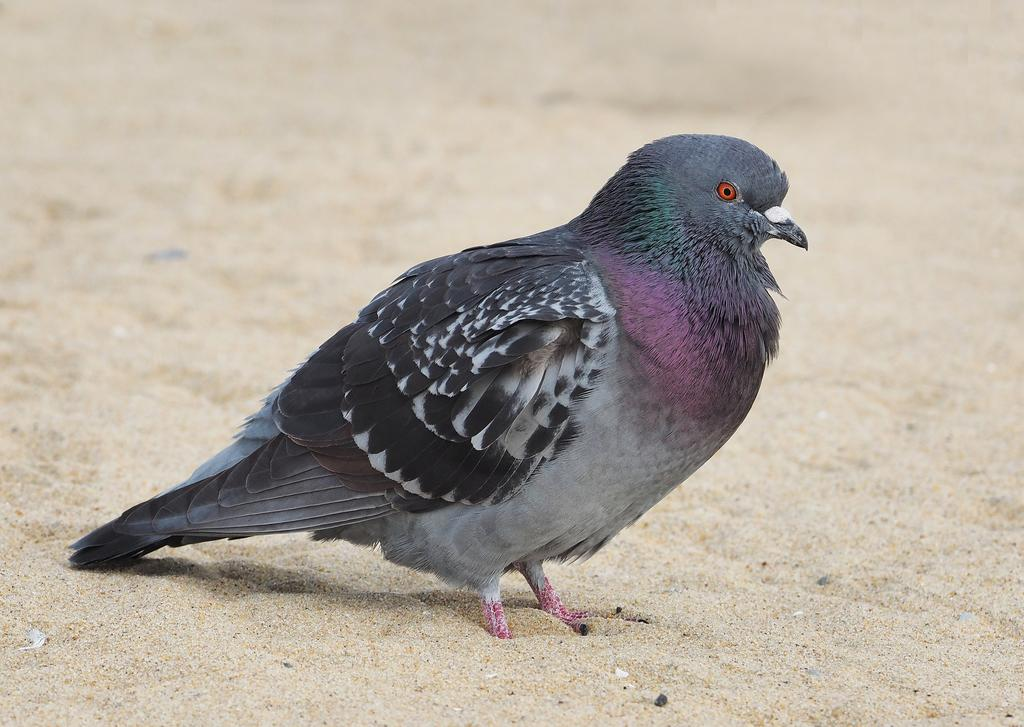Flying Rat: (62, 132, 810, 628)
